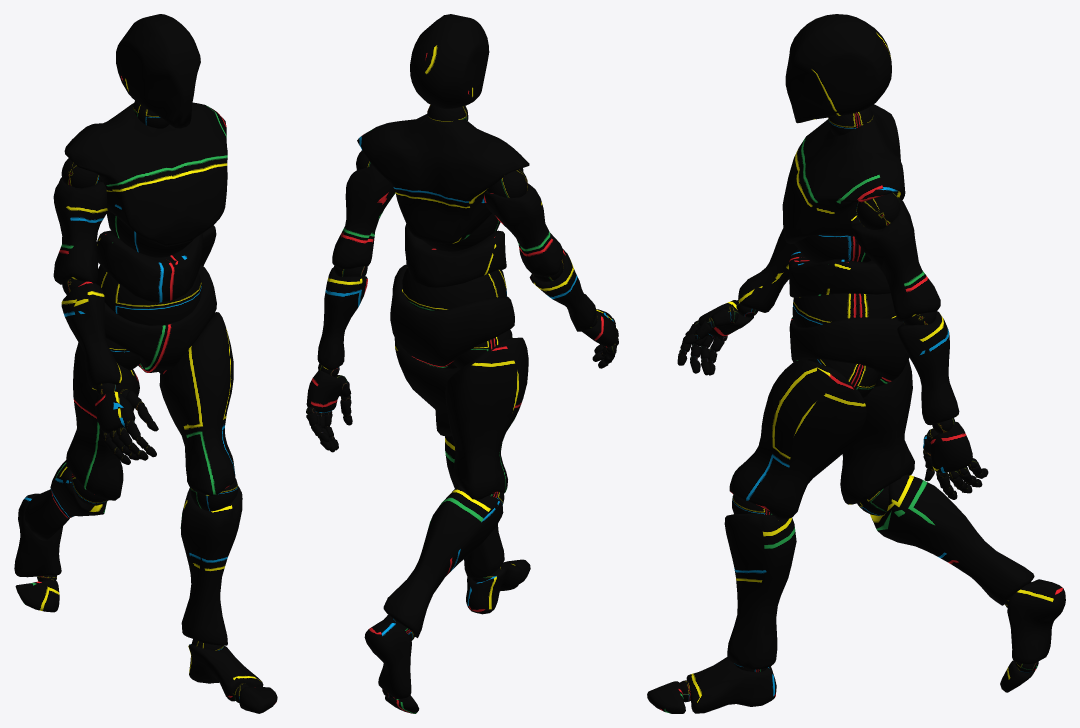
The model's file is y-bot-origin_000023.obj.
3 renders of one model, left to right at view 1: azimuth 30°, elevation 25°; view 2: azimuth 150°, elevation 25°; view 3: azimuth 270°, elevation 25°, orthographic. The views are drawn at different scales.
Visible parts, largest first — view 1: Alpha_Surface_Alpha_SurfaceMesh, Alpha_Joints_Alpha_JointsMesh; view 2: Alpha_Surface_Alpha_SurfaceMesh, Alpha_Joints_Alpha_JointsMesh; view 3: Alpha_Surface_Alpha_SurfaceMesh, Alpha_Joints_Alpha_JointsMesh.
Boxes of the visible parts, x1=… form: Alpha_Surface_Alpha_SurfaceMesh: x1=14, y1=14, x2=277, y2=713; Alpha_Joints_Alpha_JointsMesh: x1=37, y1=101, x2=249, y2=702; Alpha_Surface_Alpha_SurfaceMesh: x1=306, y1=14, x2=618, y2=713; Alpha_Joints_Alpha_JointsMesh: x1=306, y1=105, x2=618, y2=697; Alpha_Surface_Alpha_SurfaceMesh: x1=647, y1=14, x2=1065, y2=713; Alpha_Joints_Alpha_JointsMesh: x1=679, y1=107, x2=1036, y2=702.
Bounding box in the file's own units: 0.5871 × 1.77 × 0.976.
